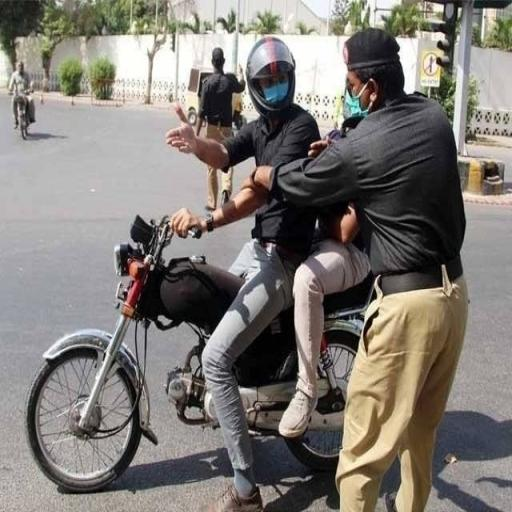helmet: (241, 36, 300, 122)
